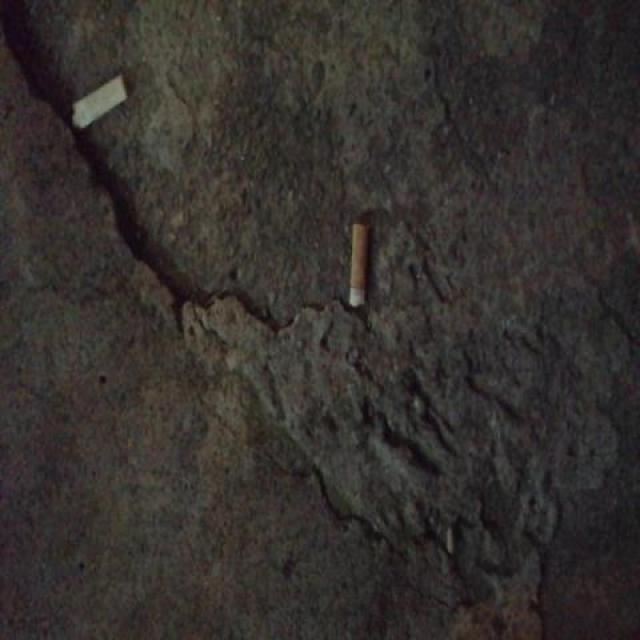non-organic waste: (69, 72, 132, 135), (345, 216, 372, 309)
